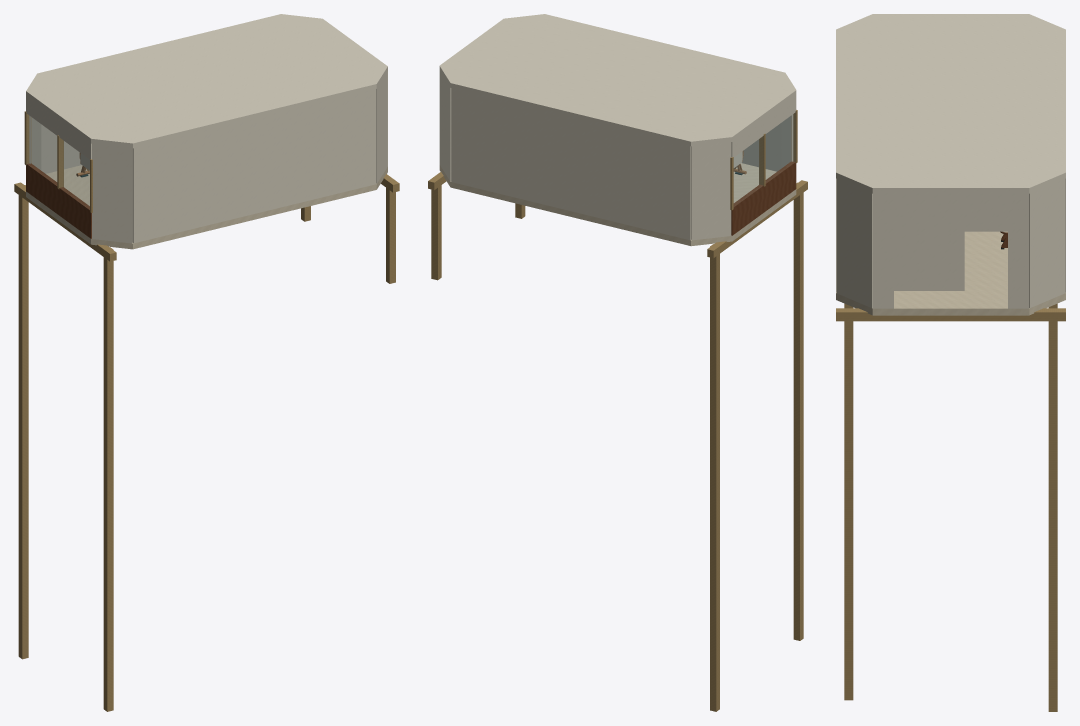
File: D04_PORT_AFT_HOME_984_r001.glb
3 renders of one model, left to right at view 1: azimuth 30°, elevation 25°; view 2: azimuth 150°, elevation 25°; view 3: azimuth 270°, elevation 25°, orthographic. The views are drawn at different scales.
Visible parts, largest first — view 1: PA984_D04SH979_Roof, PA984_D04SH979_Shell_7, PA984_D04SH979_Pier_2, PA984_D04SH979_Pier_1, PA984_D04SH979_Shell_0, PA984_D04SH979_Floor, PA984_D04SH979_GardenGlass, PA984_D04SH979_GardenDado, PA984_D04SH979_GardenHead, PA984_D04SH979_Shell_6, PA984_D04SH979_Shell_3, PA984_D04SH979_Pier_3 (+2 smaller); view 2: PA984_D04SH979_Roof, PA984_D04SH979_Shell_3, PA984_D04SH979_Pier_1, PA984_D04SH979_Pier_2, PA984_D04SH979_Shell_2, PA984_D04SH979_Floor, PA984_D04SH979_GardenGlass, PA984_D04SH979_GardenDado, PA984_D04SH979_Shell_4, PA984_D04SH979_GardenHead, PA984_D04SH979_Shell_7, PA984_D04SH979_Pier_4 (+2 smaller); view 3: PA984_D04SH979_Roof, PA984_D04SH979_Floor, PA984_D04SH979_EntryHeader, PA984_D04SH979_Shell_4, PA984_D04SH979_Shell_6, PA984_D04SH979_BathDogleg, PA984_D04SH979_Pier_2, PA984_D04SH979_Pier_1, PA984_D04SH979_EntryWall_0, PA984_D04SH979_EntryWall_1, PA984_D04SH979_Long_-46.349999999999994, PA984_D04SH979_Pier_4 (+1 smaller).
Boxes of the visible parts, <box> form: PA984_D04SH979_Roof: <box>26,14,387,148</box>; PA984_D04SH979_Shell_7: <box>132,89,375,243</box>; PA984_D04SH979_Pier_2: <box>18,185,28,659</box>; PA984_D04SH979_Pier_1: <box>103,247,113,711</box>; PA984_D04SH979_Shell_0: <box>92,143,132,243</box>; PA984_D04SH979_Floor: <box>26,165,387,249</box>; PA984_D04SH979_GardenGlass: <box>30,117,89,209</box>; PA984_D04SH979_GardenDado: <box>26,163,91,238</box>; PA984_D04SH979_GardenHead: <box>26,96,91,159</box>; PA984_D04SH979_Shell_6: <box>376,72,387,183</box>; PA984_D04SH979_Shell_3: <box>41,124,81,173</box>; PA984_D04SH979_Pier_3: <box>386,178,395,283</box>; PA984_D04SH979_Roof: <box>439,14,796,146</box>; PA984_D04SH979_Shell_3: <box>451,88,691,239</box>; PA984_D04SH979_Pier_1: <box>793,182,803,640</box>; PA984_D04SH979_Pier_2: <box>710,244,719,711</box>; PA984_D04SH979_Shell_2: <box>691,142,731,240</box>; PA984_D04SH979_Floor: <box>439,163,796,246</box>; PA984_D04SH979_GardenGlass: <box>734,116,791,205</box>; PA984_D04SH979_GardenDado: <box>731,161,796,235</box>; PA984_D04SH979_Shell_4: <box>439,71,451,181</box>; PA984_D04SH979_GardenHead: <box>731,95,796,157</box>; PA984_D04SH979_Shell_7: <box>742,123,781,171</box>; PA984_D04SH979_Pier_4: <box>431,176,441,280</box>; PA984_D04SH979_Roof: <box>836,14,1065,193</box>; PA984_D04SH979_Floor: <box>836,231,1065,315</box>; PA984_D04SH979_EntryHeader: <box>894,194,1007,231</box>; PA984_D04SH979_Shell_4: <box>1029,179,1064,307</box>; PA984_D04SH979_Shell_6: <box>837,179,872,307</box>; PA984_D04SH979_BathDogleg: <box>894,231,964,290</box>; PA984_D04SH979_Pier_2: <box>1048,303,1057,711</box>; PA984_D04SH979_Pier_1: <box>844,303,853,700</box>; PA984_D04SH979_EntryWall_0: <box>872,194,893,308</box>; PA984_D04SH979_EntryWall_1: <box>1008,194,1029,308</box>; PA984_D04SH979_Long_-46.349999999999994: <box>836,308,1065,321</box>; PA984_D04SH979_Pier_4: <box>1048,308,1057,434</box>.
Bounding box in the file's own units: 12.92 × 23.89 × 7.2.
Materials: 45 (21 with a texture image).
